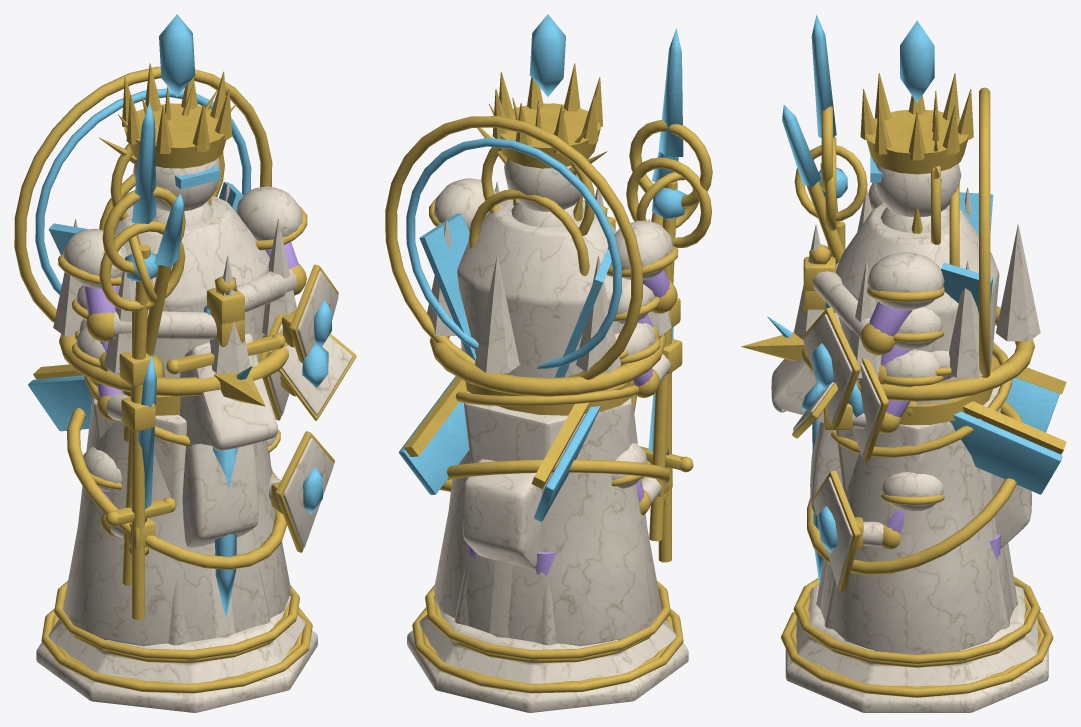
The model's file is astral_white.glb.
3 views of the same model, side by side, from view 1: azimuth 30°, elevation 25°; view 2: azimuth 150°, elevation 25°; view 3: azimuth 270°, elevation 25° (orthographic).
Parts seen in each view (by area): view 1: Mesh_Body_k, Plinth_k, Mesh_Body_n, Mesh_Head_k, Mesh_WeaponArm_r, Mesh_WeaponArm_k, Mesh_WeaponArm_b, Mesh_Body_r, Mesh_WeaponArm_q, Mesh_ShieldArm_k, Mesh_ShieldArm_p, Mesh_WeaponArm_p (+9 smaller); view 2: Mesh_Body_k, Plinth_k, Mesh_Body_n, Mesh_WeaponArm_r, Mesh_Head_k, Mesh_Body_r, Mesh_WeaponArm_q, Mesh_WeaponArm_b, Mesh_Body_q, Mesh_WeaponArm_k, Mesh_Head_q, Mesh_WeaponArm_p (+6 smaller); view 3: Mesh_Body_k, Plinth_k, Mesh_Body_n, Mesh_Head_k, Mesh_WeaponArm_r, Mesh_ShieldArm_k, Mesh_ShieldArm_p, Mesh_Body_r, Mesh_ShieldArm_q, Mesh_ShieldArm_b, Mesh_ShieldArm_n, Mesh_WeaponArm_b (+9 smaller).
Part boxes in pixels (bbox=[...]): Mesh_Body_k: bbox=[14, 66, 291, 645]; Plinth_k: bbox=[36, 581, 317, 712]; Mesh_Body_n: bbox=[28, 333, 277, 547]; Mesh_Head_k: bbox=[122, 14, 232, 211]; Mesh_WeaponArm_r: bbox=[53, 182, 296, 406]; Mesh_WeaponArm_k: bbox=[58, 228, 285, 615]; Mesh_WeaponArm_b: bbox=[72, 221, 185, 620]; Mesh_Body_r: bbox=[67, 397, 286, 645]; Mesh_WeaponArm_q: bbox=[72, 102, 185, 585]; Mesh_ShieldArm_k: bbox=[207, 186, 307, 324]; Mesh_ShieldArm_p: bbox=[267, 429, 334, 552]; Mesh_WeaponArm_p: bbox=[83, 354, 176, 555]; Mesh_Body_k: bbox=[385, 116, 661, 645]; Plinth_k: bbox=[407, 581, 688, 712]; Mesh_Body_n: bbox=[399, 376, 600, 575]; Mesh_WeaponArm_r: bbox=[427, 181, 671, 396]; Mesh_Head_k: bbox=[492, 14, 602, 211]; Mesh_Body_r: bbox=[440, 391, 670, 645]; Mesh_WeaponArm_q: bbox=[614, 28, 712, 541]; Mesh_WeaponArm_b: bbox=[620, 157, 711, 562]; Mesh_Body_q: bbox=[419, 213, 611, 646]; Mesh_WeaponArm_k: bbox=[600, 205, 678, 313]; Mesh_Head_q: bbox=[477, 97, 607, 235]; Mesh_WeaponArm_p: bbox=[611, 327, 693, 514]; Mesh_Body_k: bbox=[820, 87, 1013, 654]; Plinth_k: bbox=[781, 576, 1053, 712]; Mesh_Body_n: bbox=[767, 313, 1066, 560]; Mesh_Head_k: bbox=[860, 20, 973, 217]; Mesh_WeaponArm_r: bbox=[741, 187, 1040, 401]; Mesh_ShieldArm_k: bbox=[803, 252, 944, 355]; Mesh_ShieldArm_p: bbox=[813, 470, 944, 591]; Mesh_Body_r: bbox=[807, 367, 1022, 629]; Mesh_ShieldArm_q: bbox=[802, 307, 944, 429]; Mesh_ShieldArm_b: bbox=[792, 349, 943, 438]; Mesh_ShieldArm_n: bbox=[848, 350, 953, 461]; Mesh_WeaponArm_b: bbox=[794, 136, 867, 250].
Size of the model in its own units: 0.796 by 1.88 by 0.8695.
5 materials, 3 textured.
